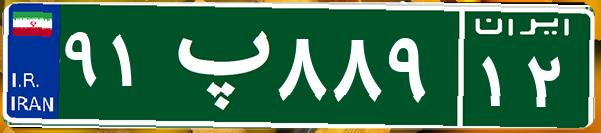1: (475, 38, 525, 113), (110, 28, 158, 105)
2: (525, 38, 570, 115)
8: (273, 28, 330, 110), (330, 28, 385, 110)
9: (385, 28, 445, 110), (57, 26, 110, 107)
پ: (158, 15, 273, 115)
